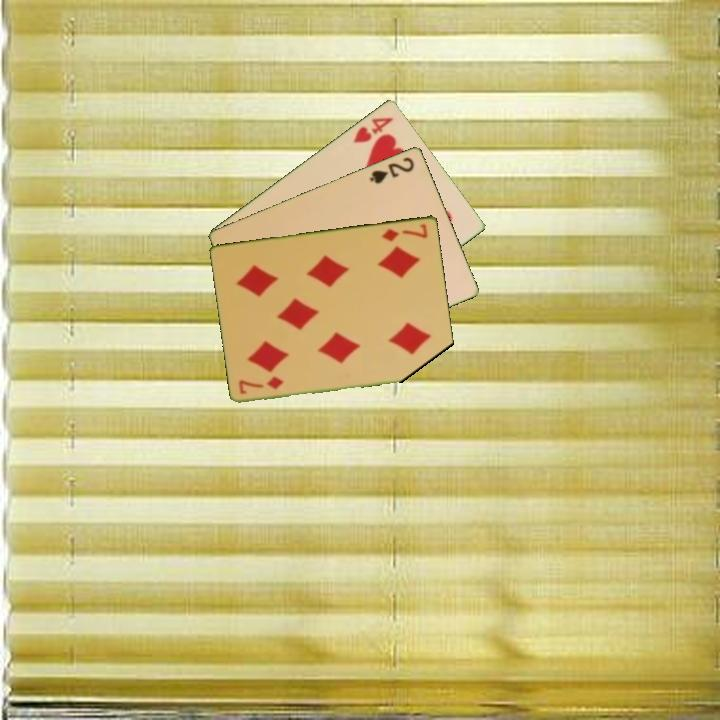2s: (366, 153, 417, 186)
4h: (350, 113, 396, 146)
7d: (379, 220, 431, 244), (235, 372, 287, 396)
